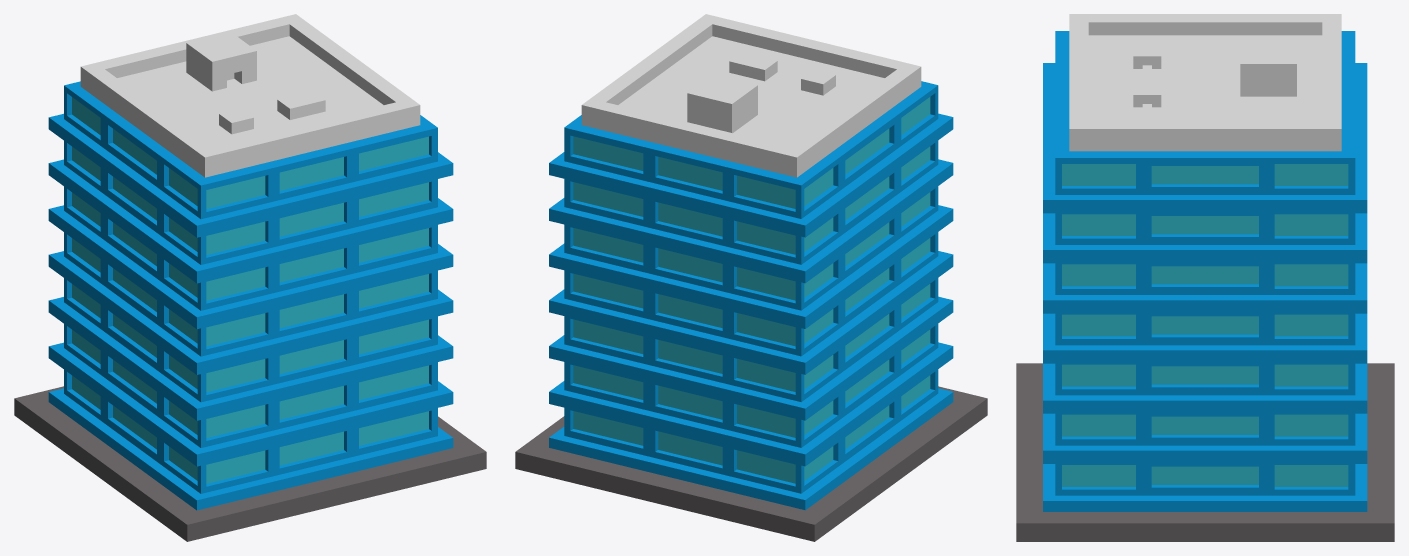
The model's file is LowpolyBuilding1.fbx.
The picture shows the model from 3 angles, left to right: view 1: azimuth 30°, elevation 25°; view 2: azimuth 150°, elevation 25°; view 3: azimuth 270°, elevation 25°; orthographic projection. The views are drawn at different scales.
Visible parts, largest first — view 1: Building, Roof, Base, Cube, Cube.002, Cube.001; view 2: Building, Roof, Base, Cube, Cube.002, Cube.001; view 3: Building, Roof, Base, Cube, Cube.002, Cube.001.
Boxes of the visible parts, x1,y1,x2,y2 form: Building: [48, 81, 453, 510]; Roof: [80, 14, 420, 177]; Base: [14, 386, 486, 541]; Cube: [186, 32, 256, 91]; Cube.002: [277, 91, 325, 119]; Cube.001: [219, 108, 253, 134]; Building: [549, 81, 953, 510]; Roof: [581, 14, 921, 177]; Base: [515, 386, 987, 541]; Cube: [687, 74, 757, 133]; Cube.002: [729, 52, 777, 81]; Cube.001: [801, 69, 835, 95]; Building: [1043, 31, 1367, 511]; Roof: [1069, 14, 1341, 151]; Base: [1016, 363, 1394, 541]; Cube: [1240, 40, 1296, 96]; Cube.002: [1133, 75, 1161, 107]; Cube.001: [1133, 44, 1161, 68].
Bounding box in the file's own units: 233 × 279 × 233.
